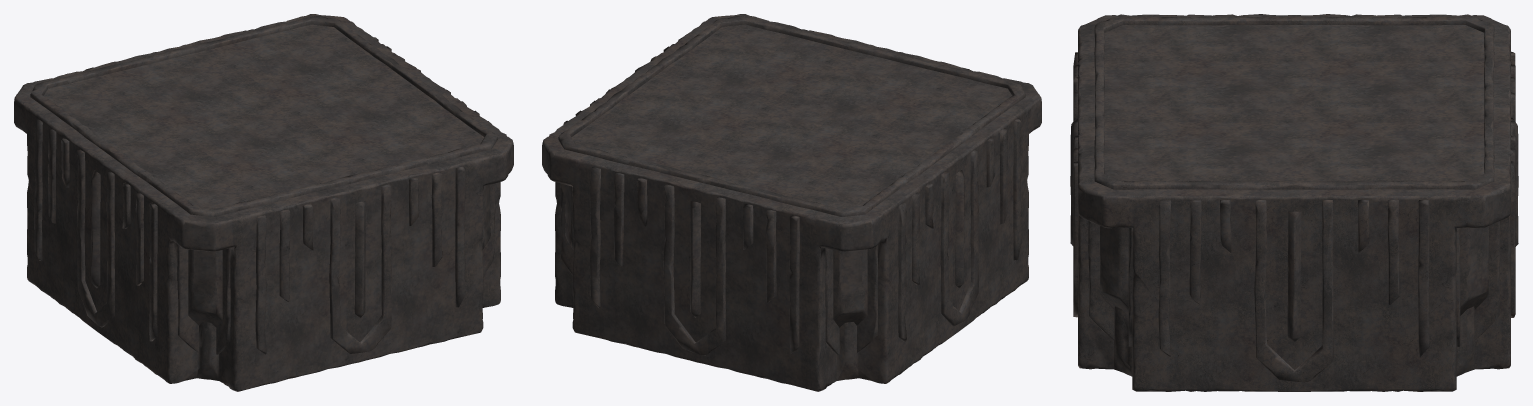
File: SM_StairsLanding.fbx
3 views of the same model, side by side, from view 1: azimuth 30°, elevation 25°; view 2: azimuth 150°, elevation 25°; view 3: azimuth 270°, elevation 25° (orthographic). The views are drawn at different scales.
Parts seen in each view (by area): view 1: SM_StairsLanding_LOD0; view 2: SM_StairsLanding_LOD0; view 3: SM_StairsLanding_LOD0.
Part boxes in pixels (bbox=[...]): SM_StairsLanding_LOD0: bbox=[14, 14, 513, 391]; SM_StairsLanding_LOD0: bbox=[542, 14, 1041, 391]; SM_StairsLanding_LOD0: bbox=[1070, 14, 1518, 391].
Bounding box in the file's own units: 621 × 621 × 308.
Materials: 2 (2 with a texture image).
